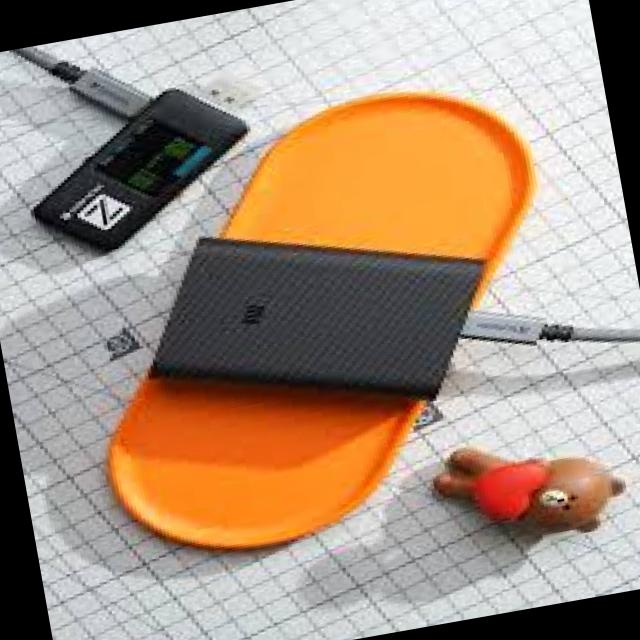power_bank: (128, 186, 508, 446)
